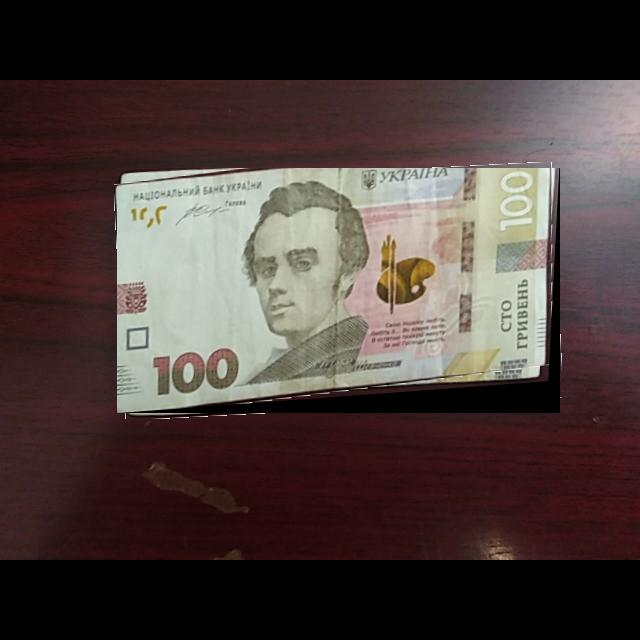100uah: (117, 168, 561, 414)
